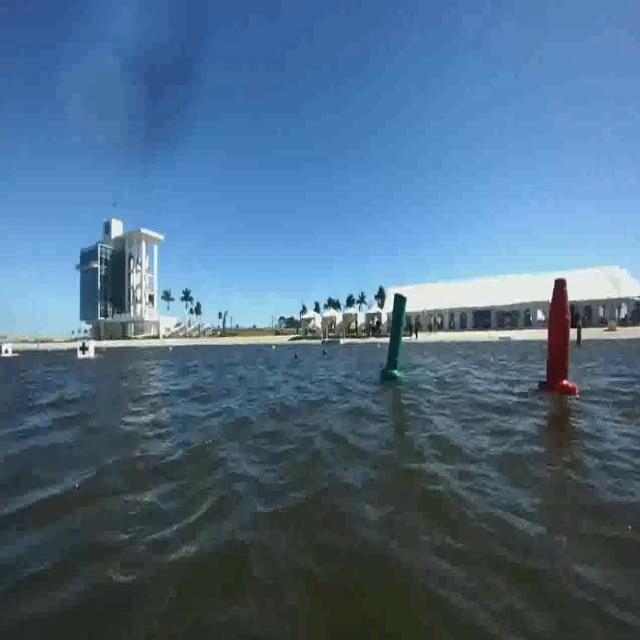green-column-buoy: (382, 290, 410, 384)
red-column-buoy: (540, 276, 579, 398)
